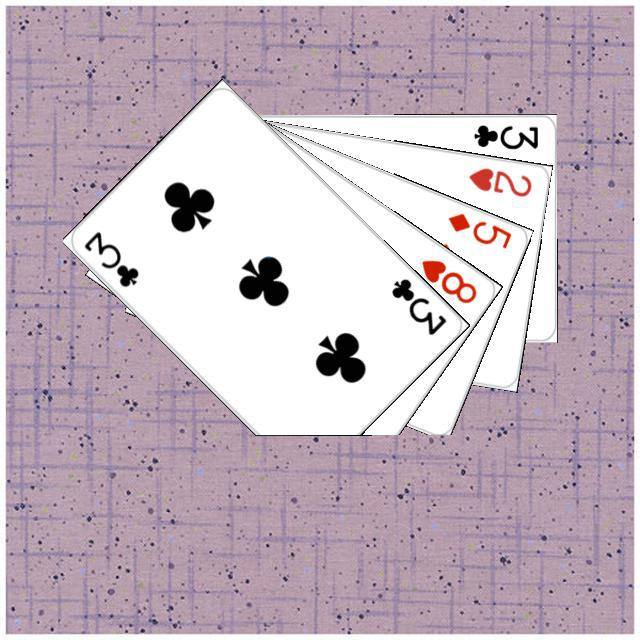2h: (464, 163, 534, 199)
3c: (386, 273, 449, 337), (79, 226, 141, 289), (468, 119, 539, 151)
5d: (443, 207, 513, 251)
8h: (416, 254, 479, 306)
